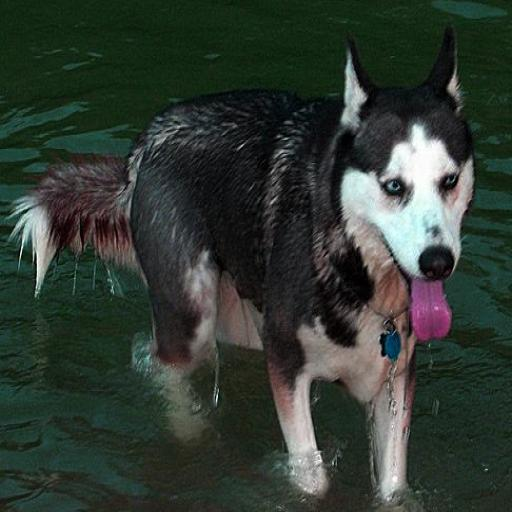dog_face: (342, 27, 482, 314)
